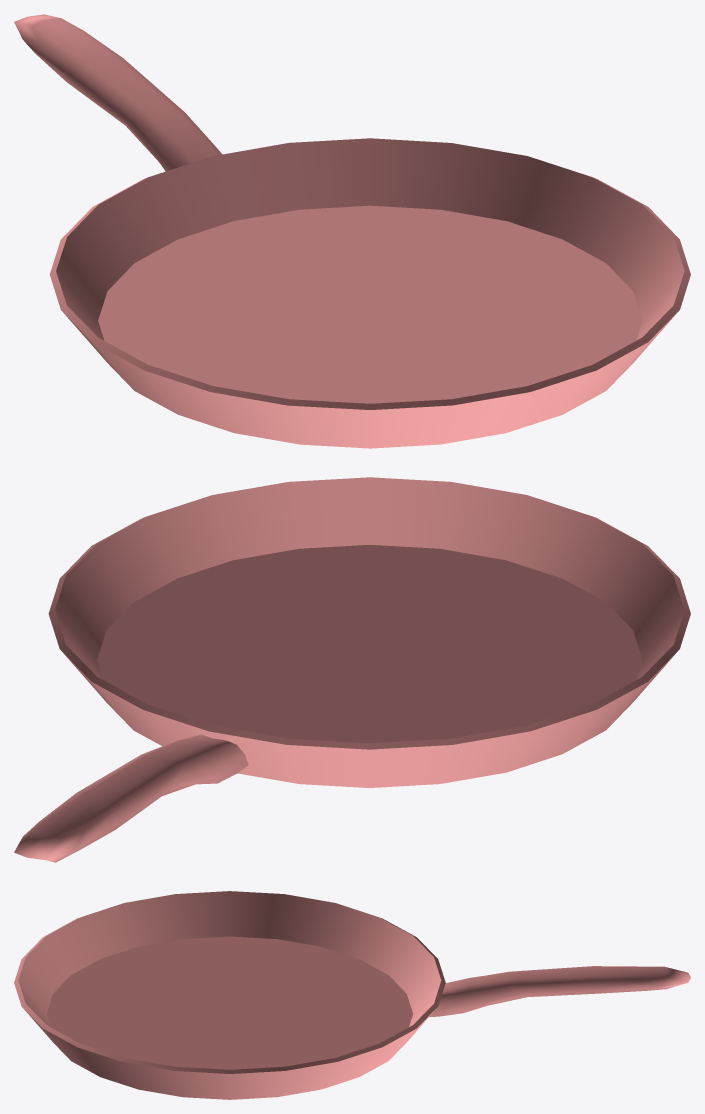
The model's file is TFYK_pan_high_poly.FBX.
3 views of the same model, one above another, from view 1: azimuth 30°, elevation 25°; view 2: azimuth 150°, elevation 25°; view 3: azimuth 270°, elevation 25° (orthographic). The views are drawn at different scales.
Parts seen in each view (by area): view 1: TFYK_pan_high_poly; view 2: TFYK_pan_high_poly; view 3: TFYK_pan_high_poly.
Boxes of the visible parts, bbox=[...] form: TFYK_pan_high_poly: bbox=[14, 14, 690, 448]; TFYK_pan_high_poly: bbox=[14, 477, 690, 862]; TFYK_pan_high_poly: bbox=[14, 891, 690, 1099].
Size of the model in its own units: 0.2282 by 0.0296 by 0.3576.
